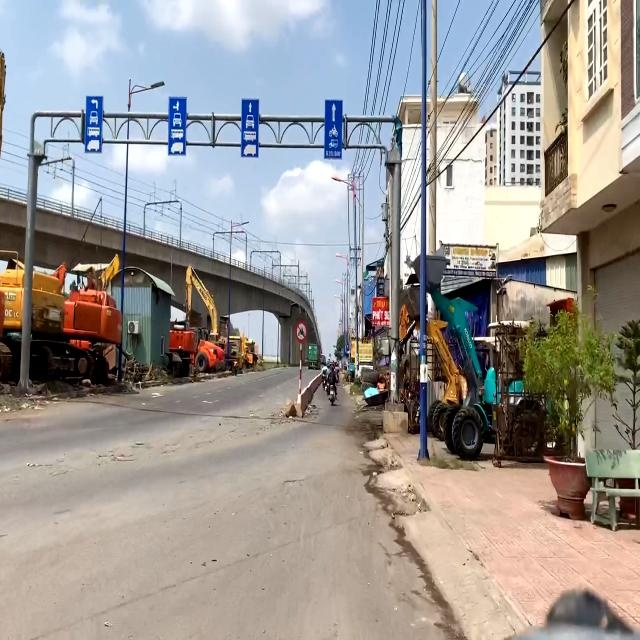bien_chi_dan: (295, 320, 308, 343)
